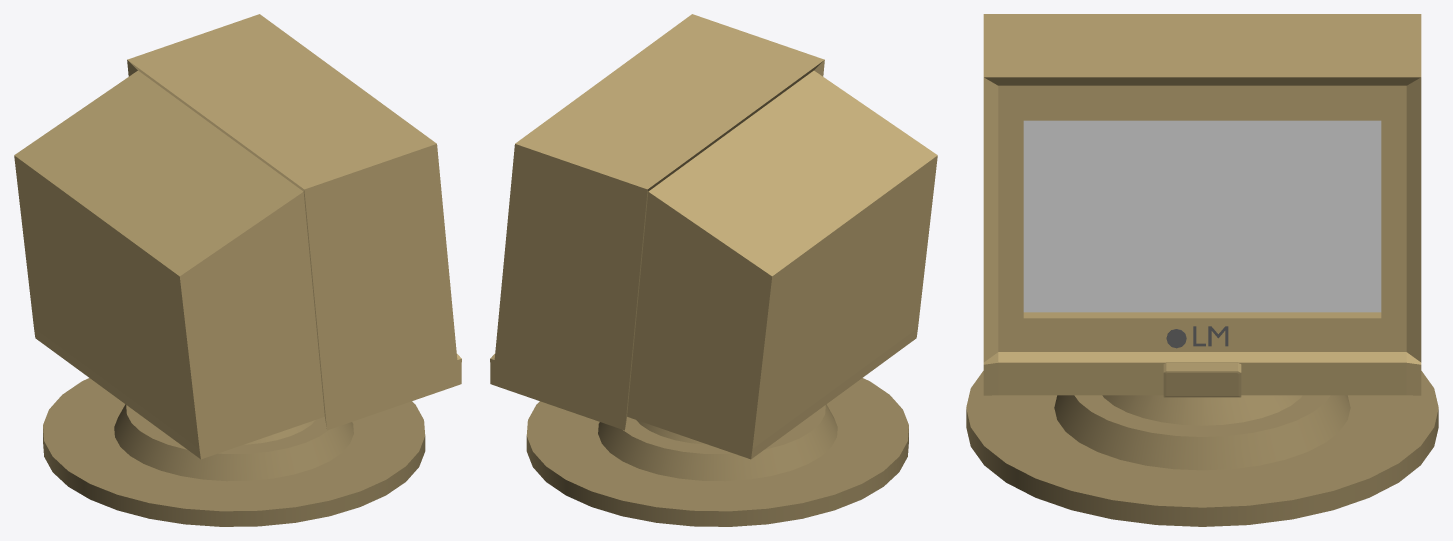
Rendered from MonitorAntigo.fbx.
3 renders of one model, left to right at view 1: azimuth 30°, elevation 25°; view 2: azimuth 150°, elevation 25°; view 3: azimuth 270°, elevation 25°, orthographic. The views are drawn at different scales.
Visible parts, largest first — view 1: Cube, Cylinder; view 2: Cube, Cylinder; view 3: Cube, Cube.002, Cylinder, Cube.001.
Part boxes in pixels (box(x1,y1,x2,y2)): Cube: box(14, 14, 461, 459); Cylinder: box(43, 378, 425, 526); Cube: box(490, 14, 937, 459); Cylinder: box(526, 378, 908, 526); Cube: box(983, 14, 1421, 395); Cube.002: box(1023, 120, 1381, 312); Cylinder: box(966, 371, 1438, 526); Cube.001: box(1163, 362, 1241, 397).
Bounding box in the file's own units: 400 × 391 × 400.
